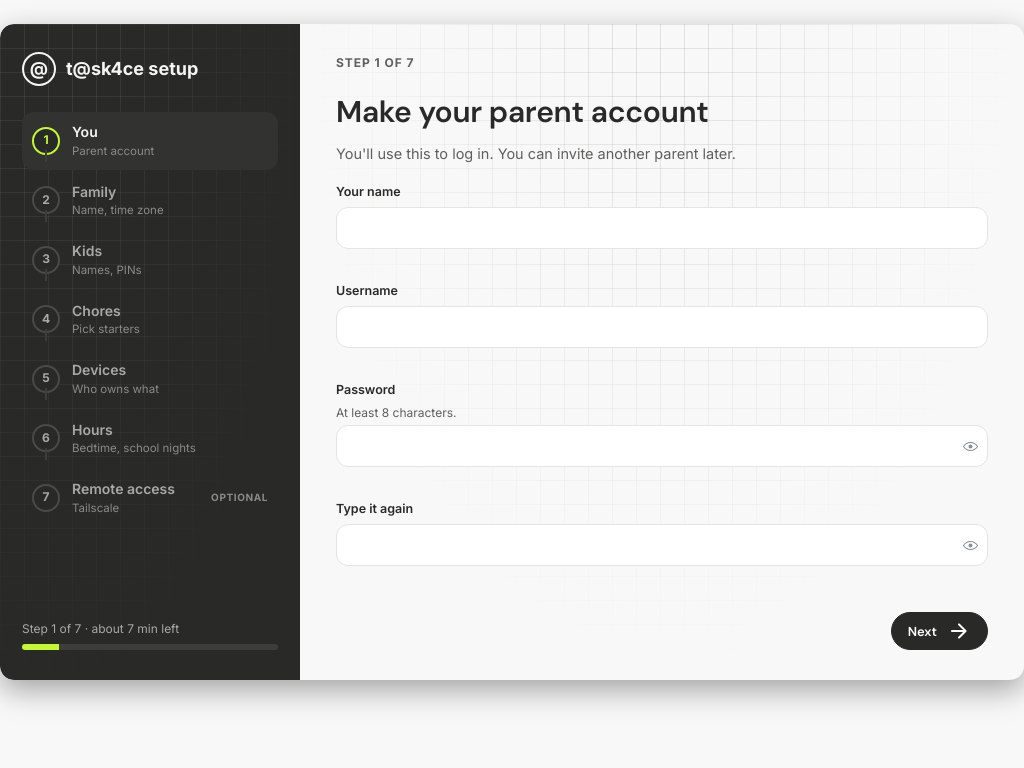
Scenario: setup wizard › short password blocks Next
The image size is (1024, 768).
Type "Sam" into the field labelled "Your name" at (662, 228), box top-left (336, 207), bottom-right (988, 249)
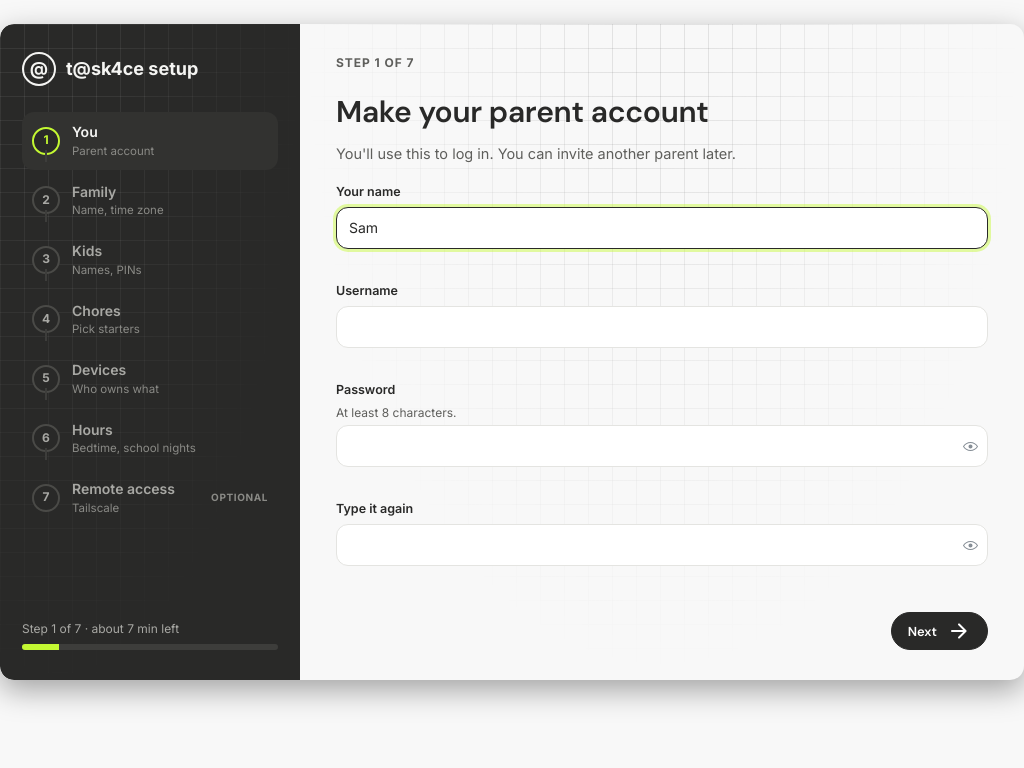
Type "sam" into the field labelled "Username" at (662, 327), box top-left (336, 306), bottom-right (988, 348)
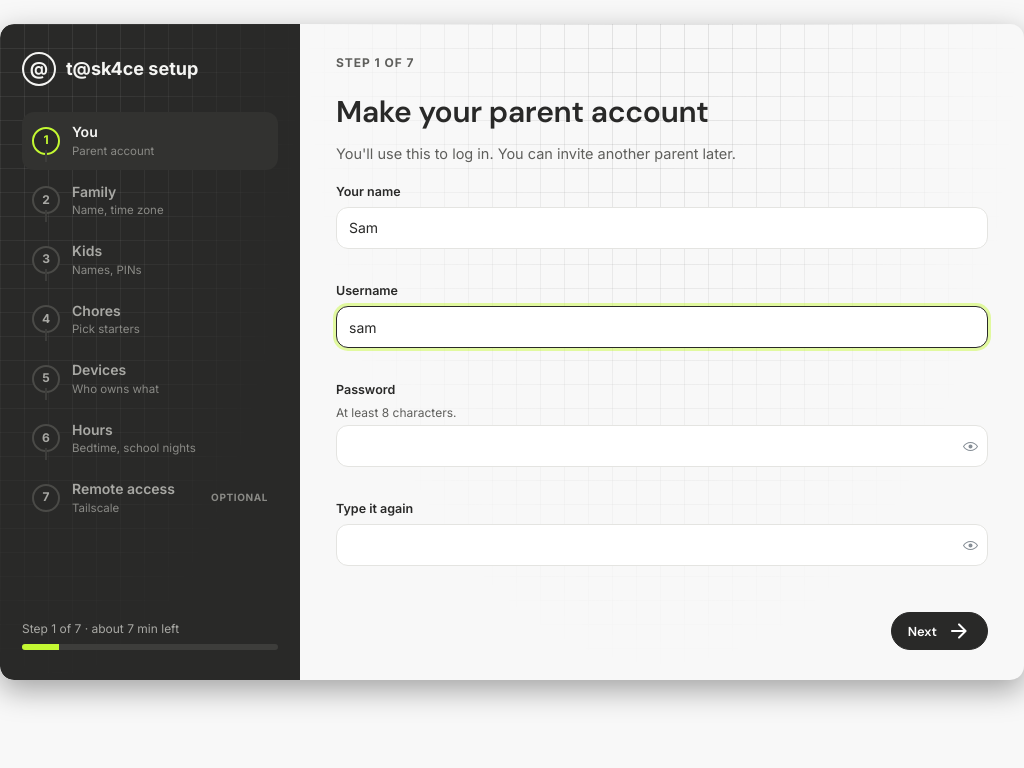
Type "short" into the password field labelled "Password" at (662, 446), box top-left (337, 426), bottom-right (987, 466)
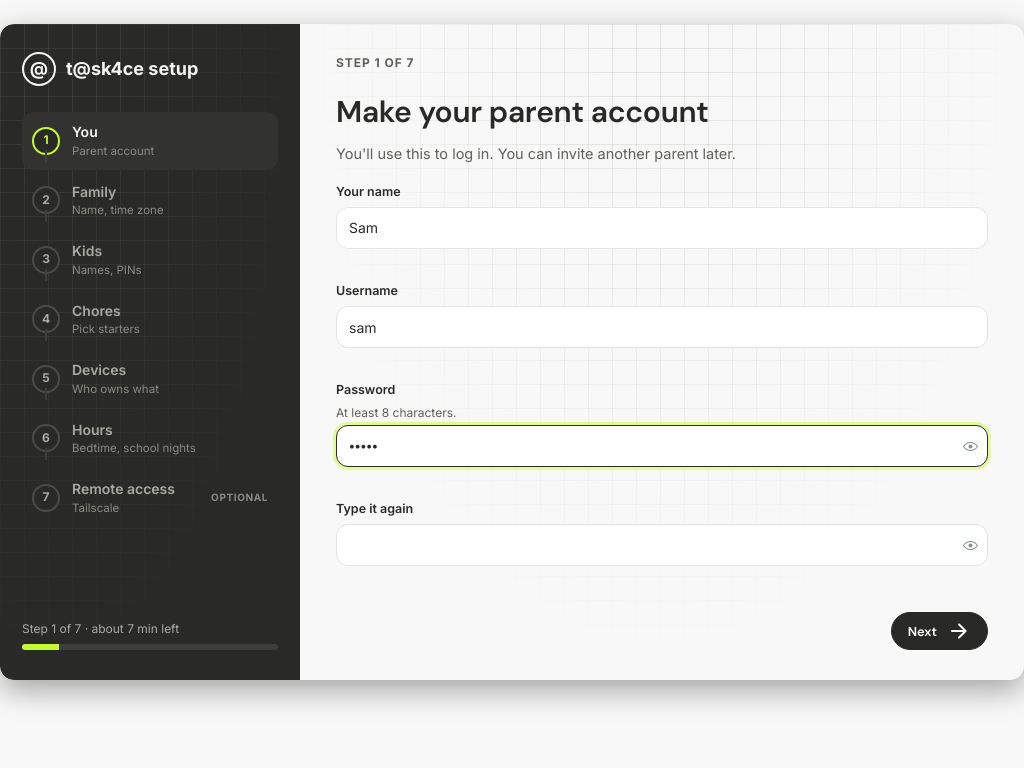
Click the button "Next" at (939, 632), box top-left (891, 612), bottom-right (988, 650)
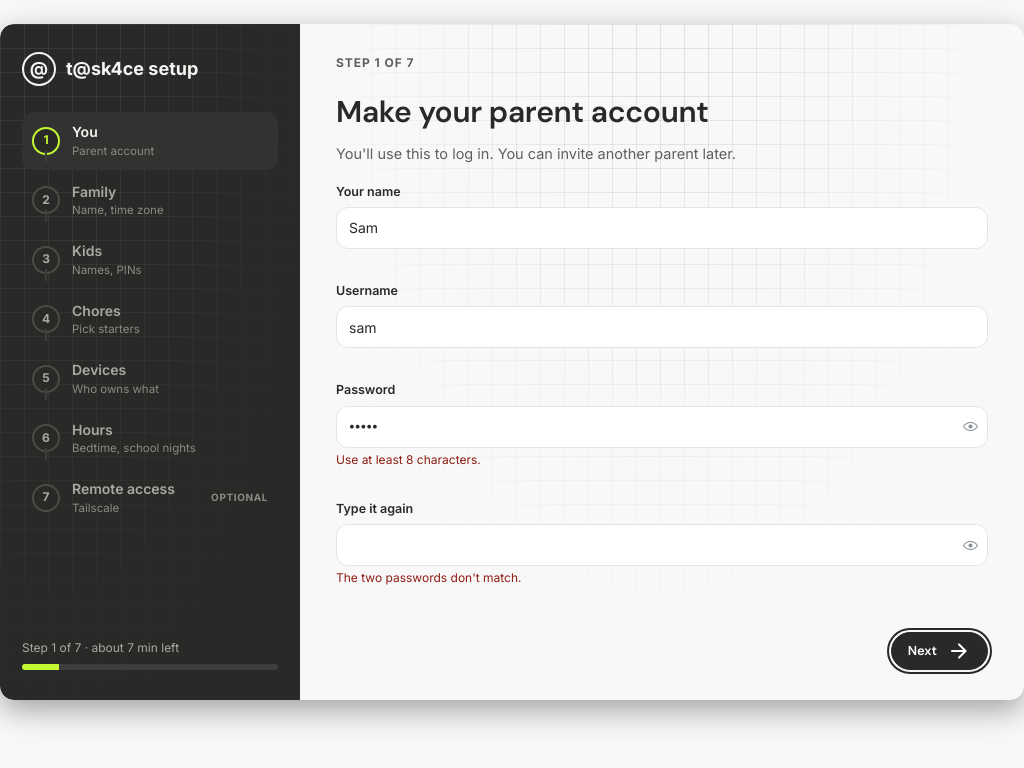
Expected: the text "Use at least 8 characters." is shown, top-left (336, 452), bottom-right (481, 467)
